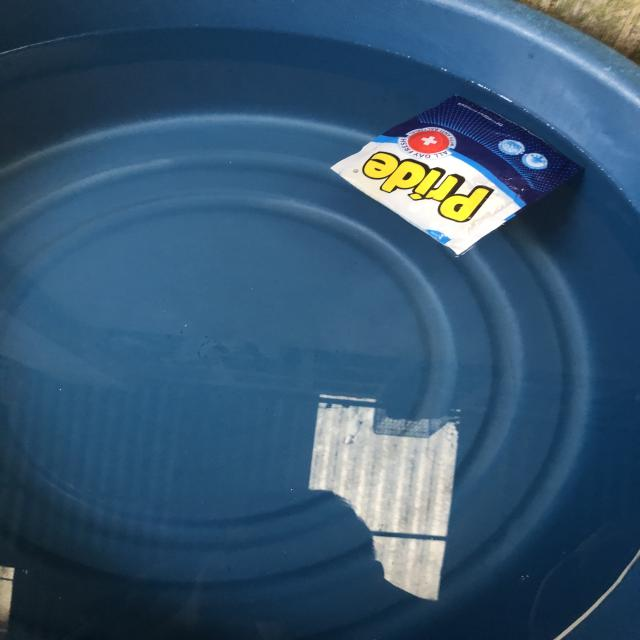Plastic Wrapper: (313, 73, 612, 267)
